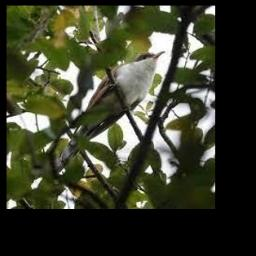Cuckoo: (53, 50, 165, 172)
